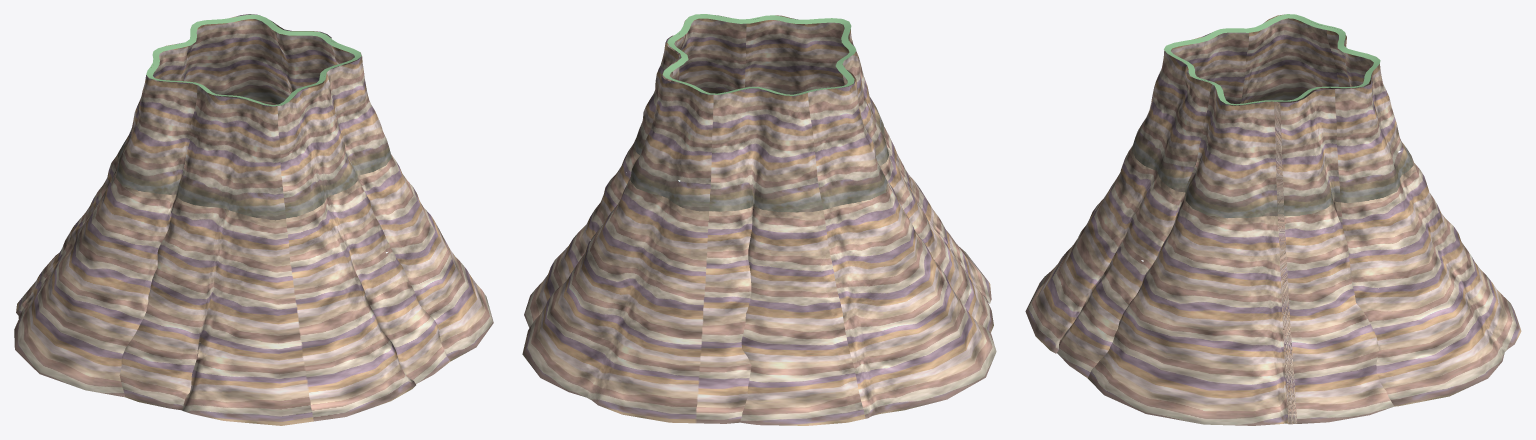
Rendered from CliffWall_stack_11.glb.
3 views of the same model, side by side, from view 1: azimuth 30°, elevation 25°; view 2: azimuth 150°, elevation 25°; view 3: azimuth 270°, elevation 25° (orthographic). The views are drawn at different scales.
Parts seen in each view (by area): view 1: CliffWall_stack_11-rock0, CliffWall_stack_11-lip0; view 2: CliffWall_stack_11-rock0, CliffWall_stack_11-lip0; view 3: CliffWall_stack_11-rock0, CliffWall_stack_11-lip0.
Part boxes in pixels (x1=…): CliffWall_stack_11-rock0: x1=14, y1=14, x2=493, y2=425; CliffWall_stack_11-lip0: x1=146, y1=14, x2=361, y2=106; CliffWall_stack_11-rock0: x1=522, y1=15, x2=996, y2=425; CliffWall_stack_11-lip0: x1=662, y1=14, x2=856, y2=95; CliffWall_stack_11-rock0: x1=1025, y1=14, x2=1521, y2=425; CliffWall_stack_11-lip0: x1=1164, y1=14, x2=1380, y2=105.
Size of the model in its own units: 415 by 248 by 422.
Materials: 4 (1 with a texture image).
